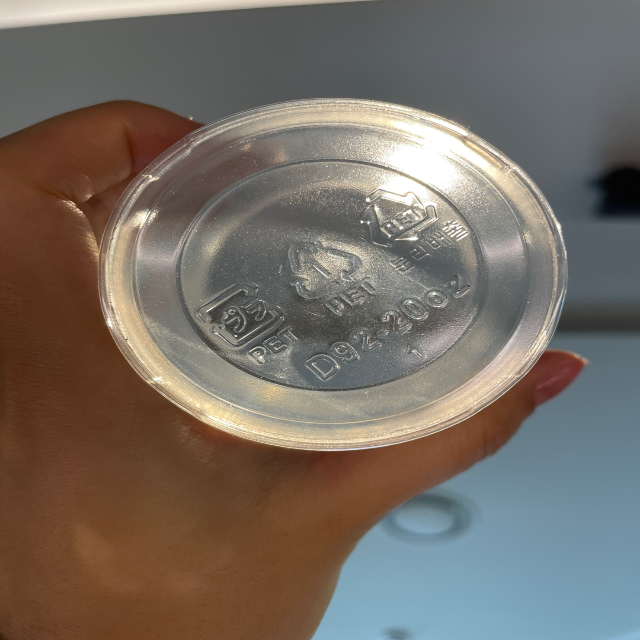pet: (357, 182, 477, 276), (190, 272, 300, 369), (281, 231, 380, 322)
